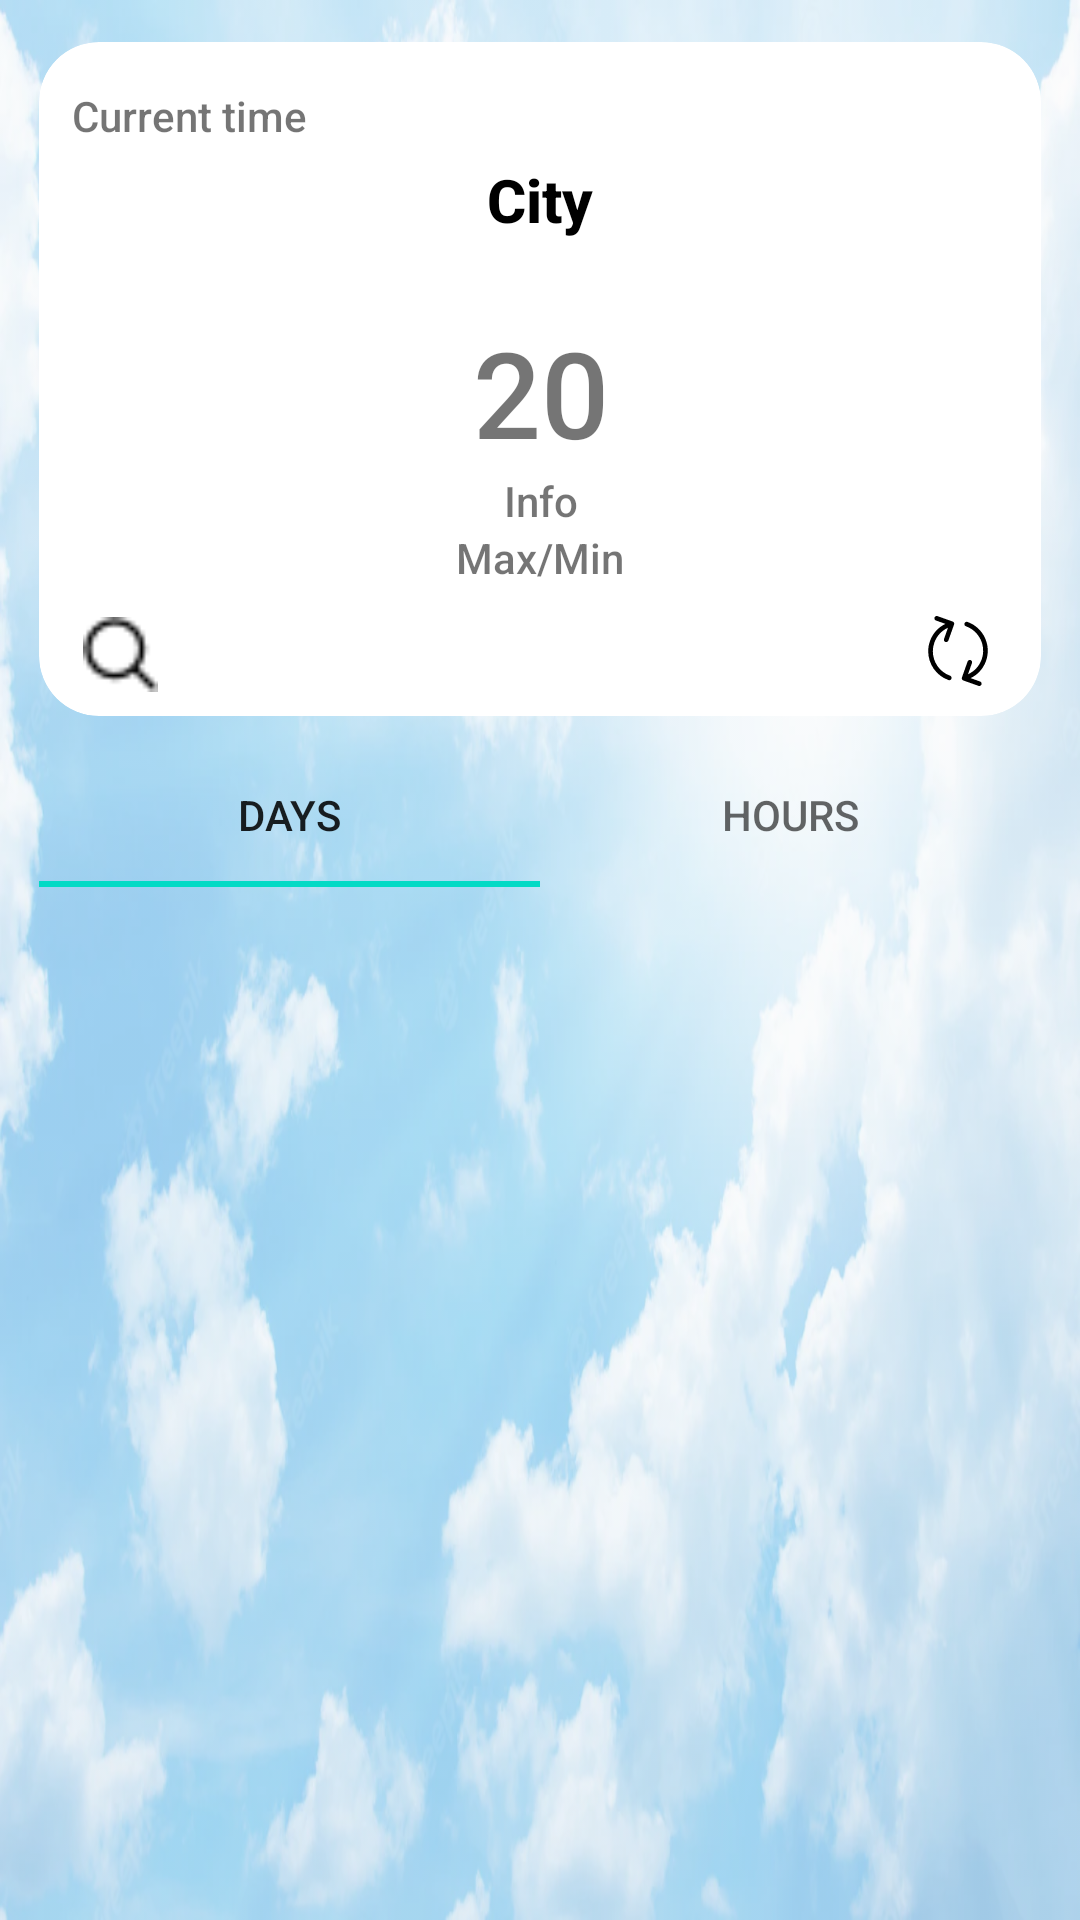

Screen size 1080px×1920px. Icon name, then its center in pixels as (x,y):
sync: (958,651)
